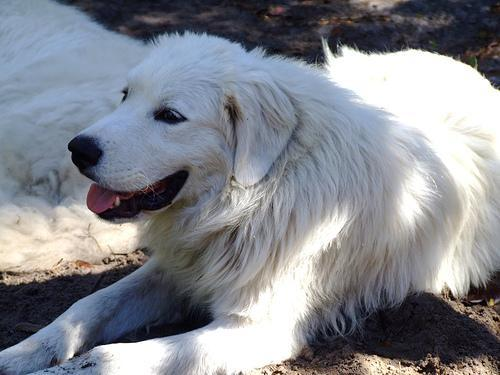Great_Pyrenees: (0, 30, 499, 374)
